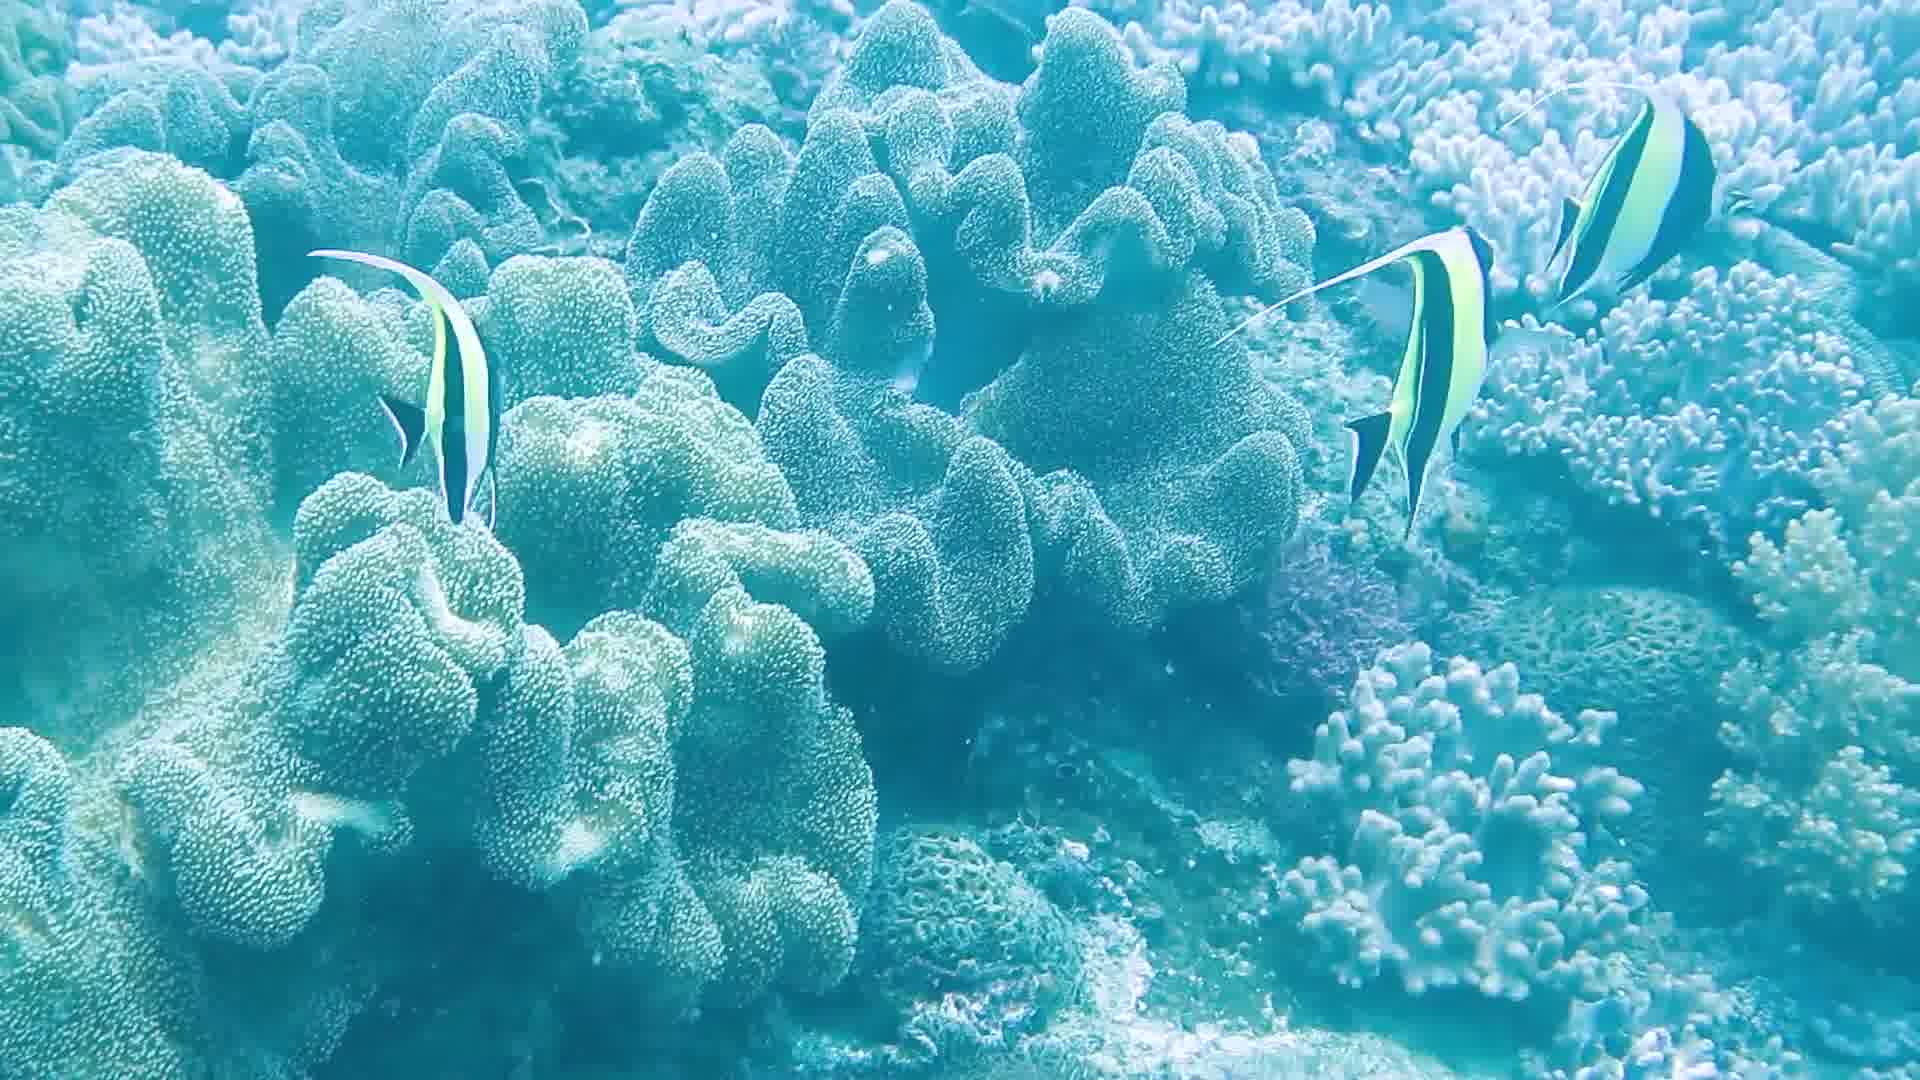Zanclus cornutus: (1302, 177, 1545, 556), (1534, 47, 1735, 388), (328, 204, 529, 545)
